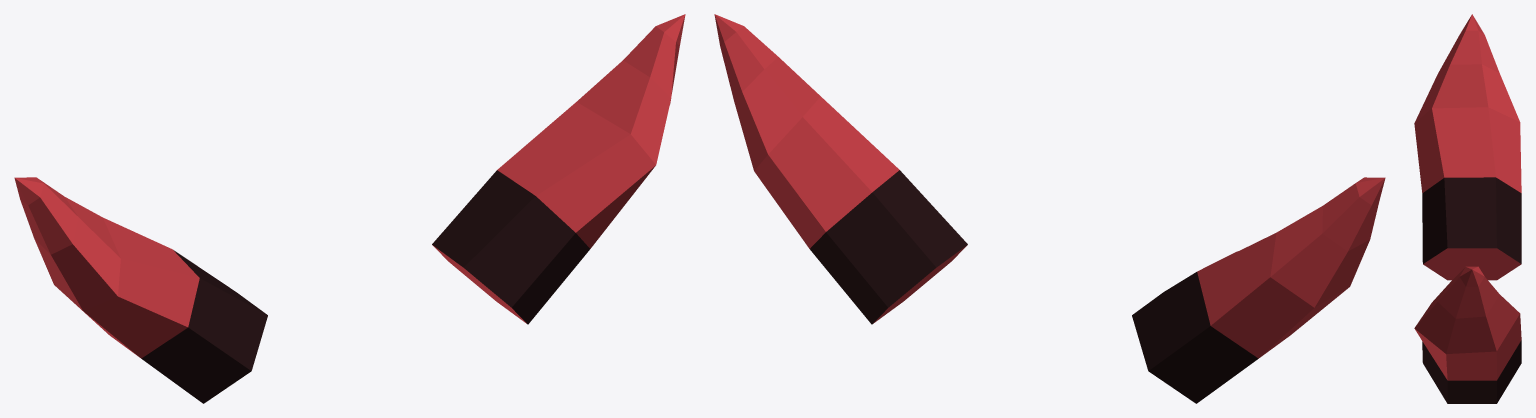
The picture shows the model from 3 angles, left to right: view 1: azimuth 30°, elevation 25°; view 2: azimuth 150°, elevation 25°; view 3: azimuth 270°, elevation 25°; orthographic projection. The views are drawn at different scales.
Visible parts, largest first — view 1: horns; view 2: horns; view 3: horns.
Part boxes in pixels (x1,y1,x2,y2): horns: [14, 14, 685, 403]; horns: [714, 14, 1385, 403]; horns: [1414, 14, 1521, 403].
Size of the model in its own units: 0.941 by 0.3443 by 0.167.
